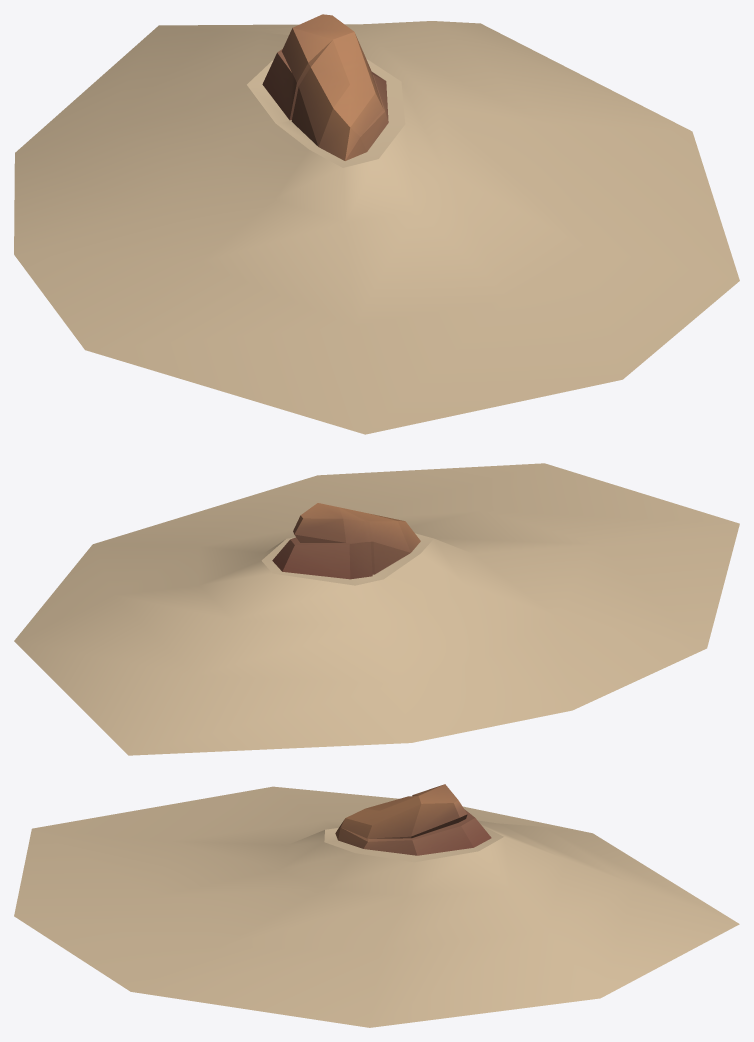
File: roche_sable02.FBX
3 views of the same model, one above another, from view 1: azimuth 30°, elevation 25°; view 2: azimuth 150°, elevation 25°; view 3: azimuth 270°, elevation 25° (orthographic). The views are drawn at different scales.
Parts seen in each view (by area): view 1: roche_sable02; view 2: roche_sable02; view 3: roche_sable02.
Part boxes in pixels (left/top/right/bottom): roche_sable02: left=14, top=14, right=739, bottom=434; roche_sable02: left=14, top=463, right=739, bottom=755; roche_sable02: left=14, top=784, right=739, bottom=1027.
Bounding box in the file's own units: 12.39 × 2.83 × 15.37.
